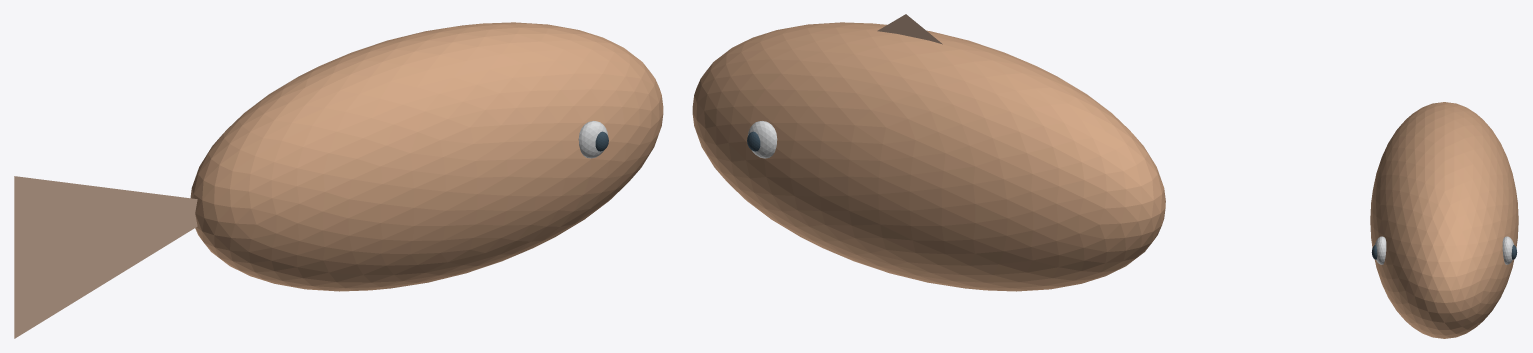
3 views of the same model, side by side, from view 1: azimuth 30°, elevation 25°; view 2: azimuth 150°, elevation 25°; view 3: azimuth 270°, elevation 25° (orthographic). The views are drawn at different scales.
Visible parts, largest first — view 1: fish_00, fish_01, fish_05; view 2: fish_00, fish_02, fish_03; view 3: fish_00, fish_03, fish_05.
Part boxes in pixels (x1,y1,x2,y2): fish_00: (190,22,663,291); fish_01: (14,176,197,338); fish_05: (578,121,607,158); fish_00: (692,22,1165,291); fish_02: (877,14,942,44); fish_03: (748,121,777,158); fish_00: (1370,102,1518,338); fish_03: (1502,236,1513,264); fish_05: (1375,236,1386,264).
Bounding box in the file's own units: 2.78 × 1.05 × 0.76.
